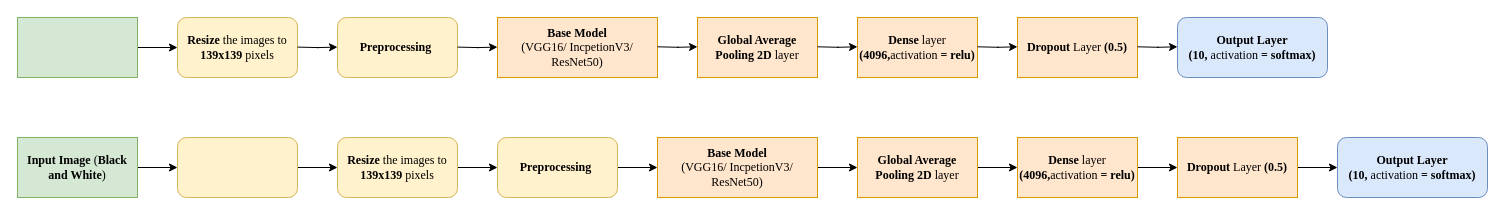
Image size: 1505x215. Some labels were removed from this diagram. Each missing label, with the centre of its shape:
Convert to RGB by stacking pixel values: [237,167]
Input Image ( RGB ): [77,47]
